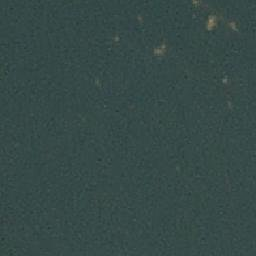debris: (208, 16, 218, 30), (155, 45, 165, 55), (230, 24, 236, 31)
